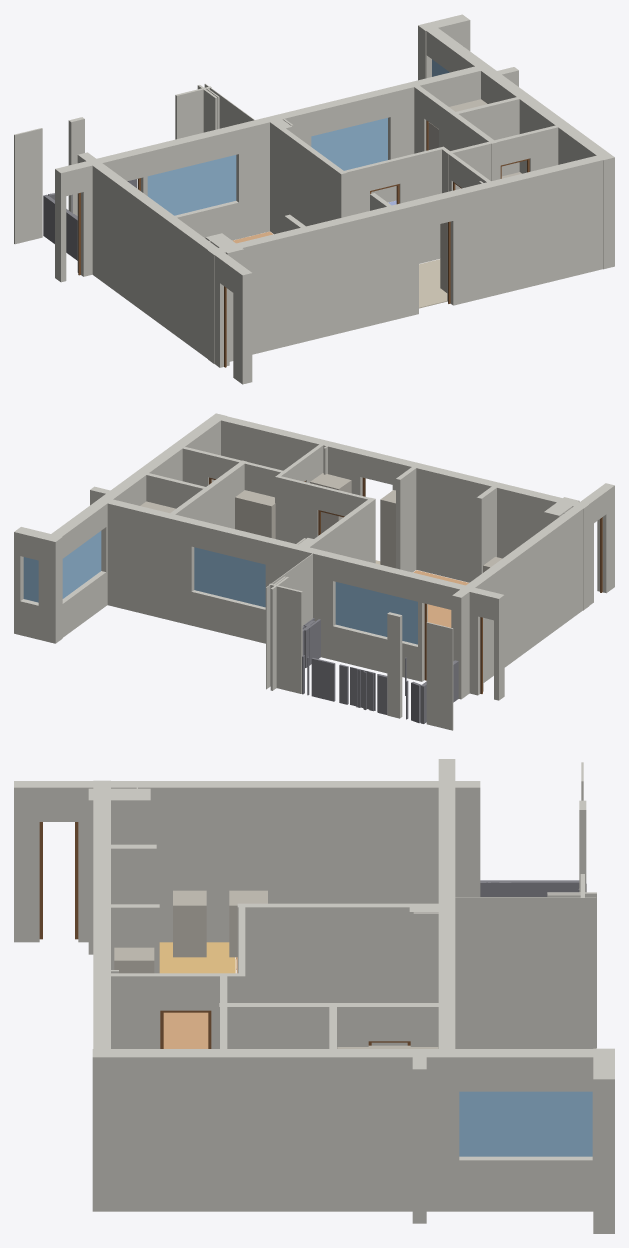
The picture shows the model from 3 angles, top to bottom: view 1: azimuth 30°, elevation 25°; view 2: azimuth 150°, elevation 25°; view 3: azimuth 270°, elevation 25°; orthographic projection. The views are drawn at different scales.
Parts seen in each view (by area): view 1: walls, window_3, window_0, railings, floor_2_Entry, furniture_4_closet, furniture_1_closet; view 2: walls, railings, window_3, window_0, furniture_2_closet, window_8, furniture_3_closet, furniture_4_closet, window_11, floor_0_Living_Room; view 3: walls, window_8, furniture_8_appliance, floor_1_Kitchen, floor_0_Living_Room, railings, furniture_3_closet, furniture_5_appliance, door_10.
Part boxes in pixels (x1,y1,x2,y2): walls: (14,14,614,384); window_3: (147,155,236,215); window_0: (311,118,387,170); railings: (43,179,136,260); floor_2_Entry: (419,259,447,308); furniture_4_closet: (440,222,447,292); furniture_1_closet: (428,99,487,149); walls: (14,413,614,730); railings: (302,618,458,723); window_3: (335,582,417,644); window_0: (194,547,265,607); furniture_2_closet: (235,490,275,538); window_8: (62,531,101,598); furniture_3_closet: (380,490,395,568); furniture_4_closet: (310,473,351,533); window_11: (23,557,38,602); floor_0_Living_Room: (413,570,468,627); walls: (14,759,614,1233); window_8: (459,1091,592,1156); furniture_8_appliance: (173,890,206,957); floor_1_Kitchen: (159,942,235,973); floor_0_Living_Room: (163,957,237,1048); railings: (480,880,586,896); furniture_3_closet: (114,947,154,973); furniture_5_appliance: (229,890,267,957); door_10: (39,822,78,939).
Size of the model in its own units: 12.01 by 2.72 by 9.53.
